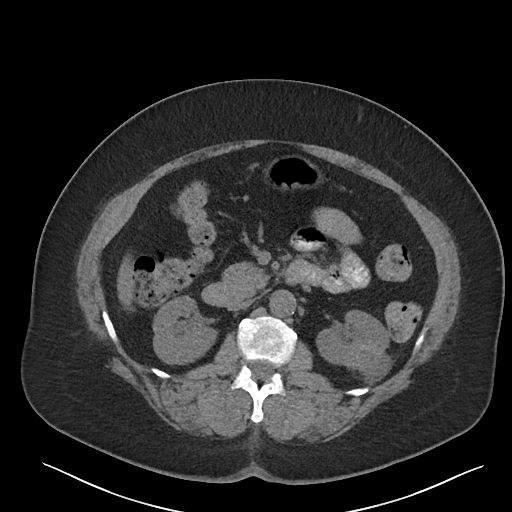Lesion: (348, 347, 394, 383)
